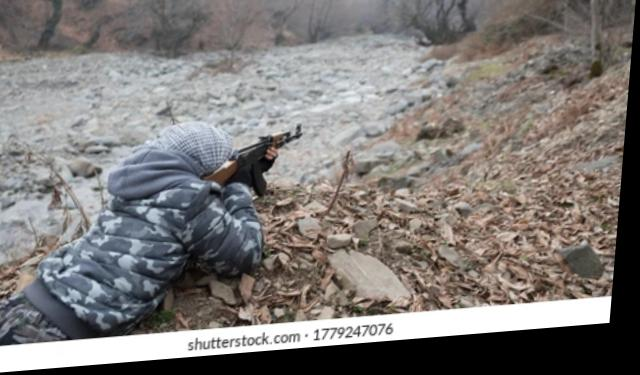other: (0, 120, 299, 342)
